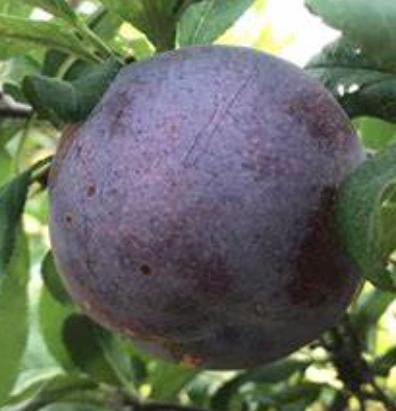plum_B: (48, 45, 371, 370)
